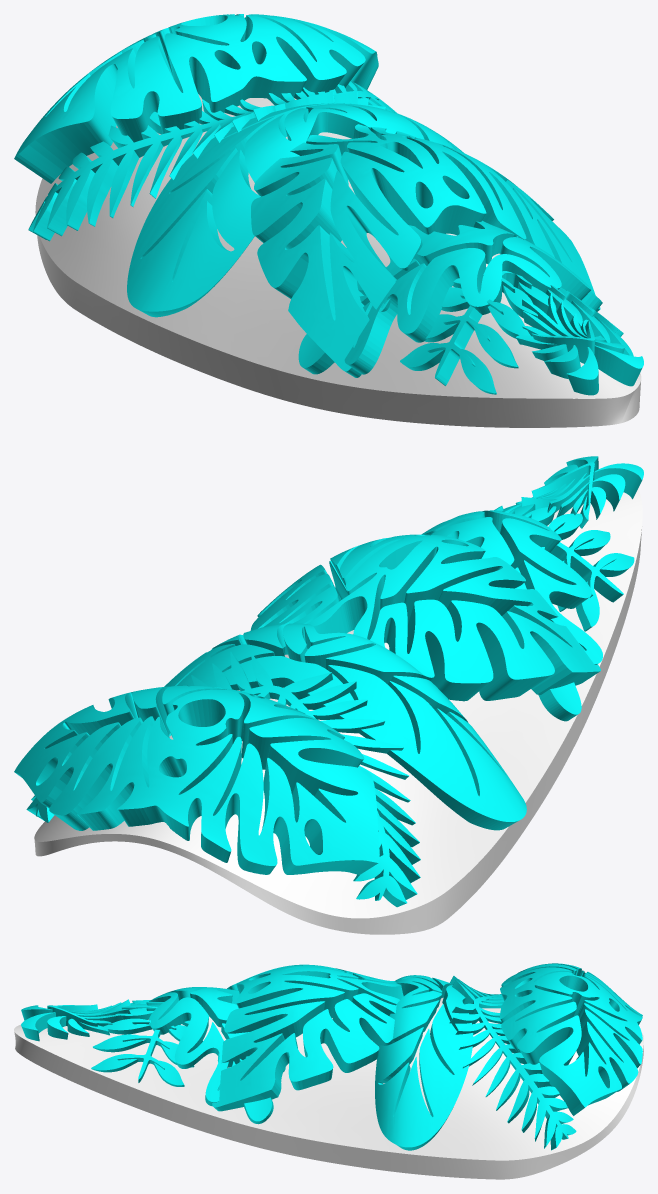
File: jungle-stiletto-full.glb
The picture shows the model from 3 angles, top to bottom: view 1: azimuth 30°, elevation 25°; view 2: azimuth 150°, elevation 25°; view 3: azimuth 270°, elevation 25°; orthographic projection. The views are drawn at different scales.
Size of the model in its own units: 0.0144 by 0.00765 by 0.0301.
